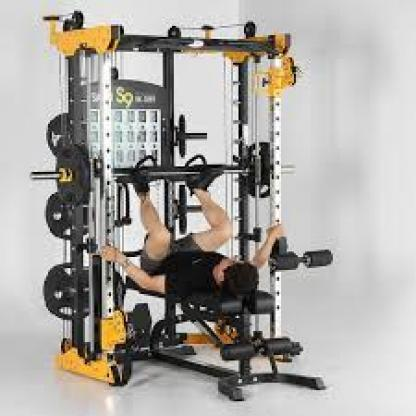smith machine: (30, 9, 332, 401)
